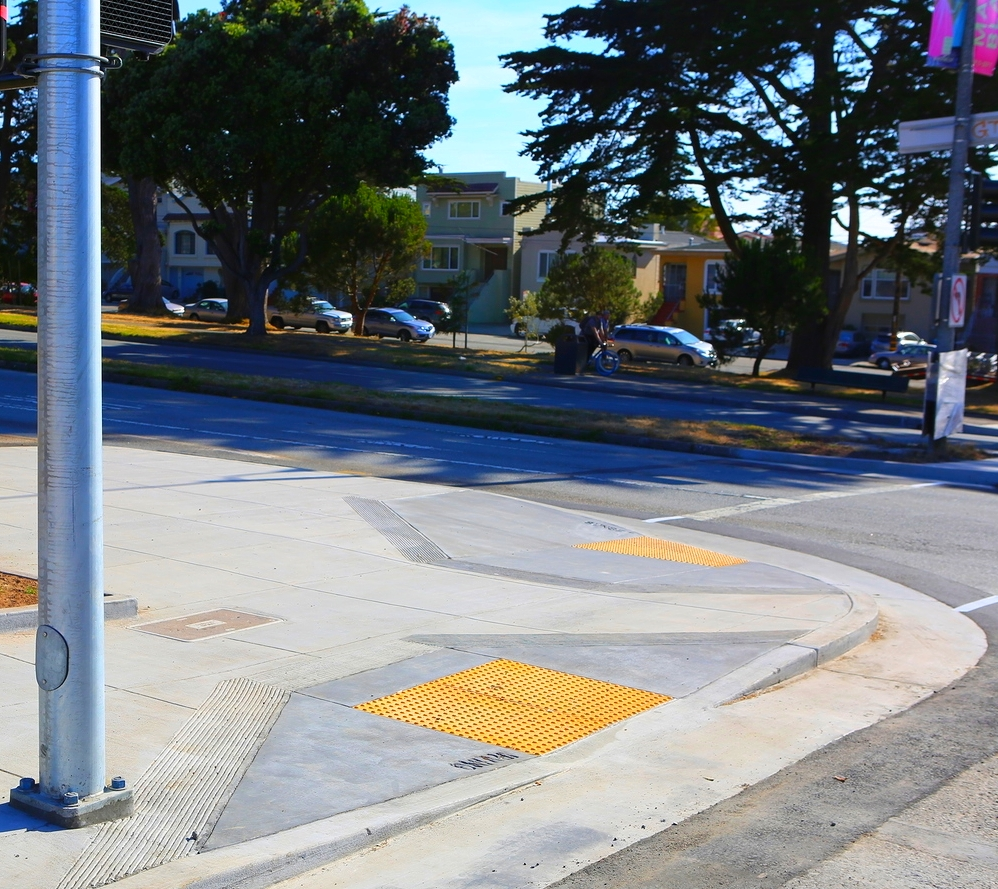ramp: (174, 651, 817, 842), (497, 502, 849, 588)
